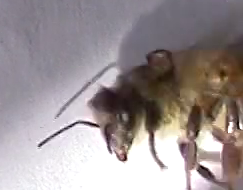Varroa destructor: (146, 46, 173, 65)
